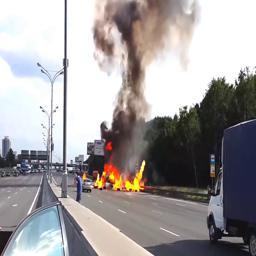fire: (95, 156, 146, 192)
